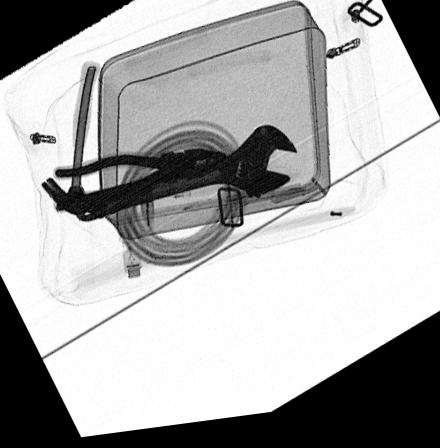Hammer: (39, 65, 103, 217)
Pliers: (53, 153, 238, 222)
Wrench: (73, 129, 300, 223)
